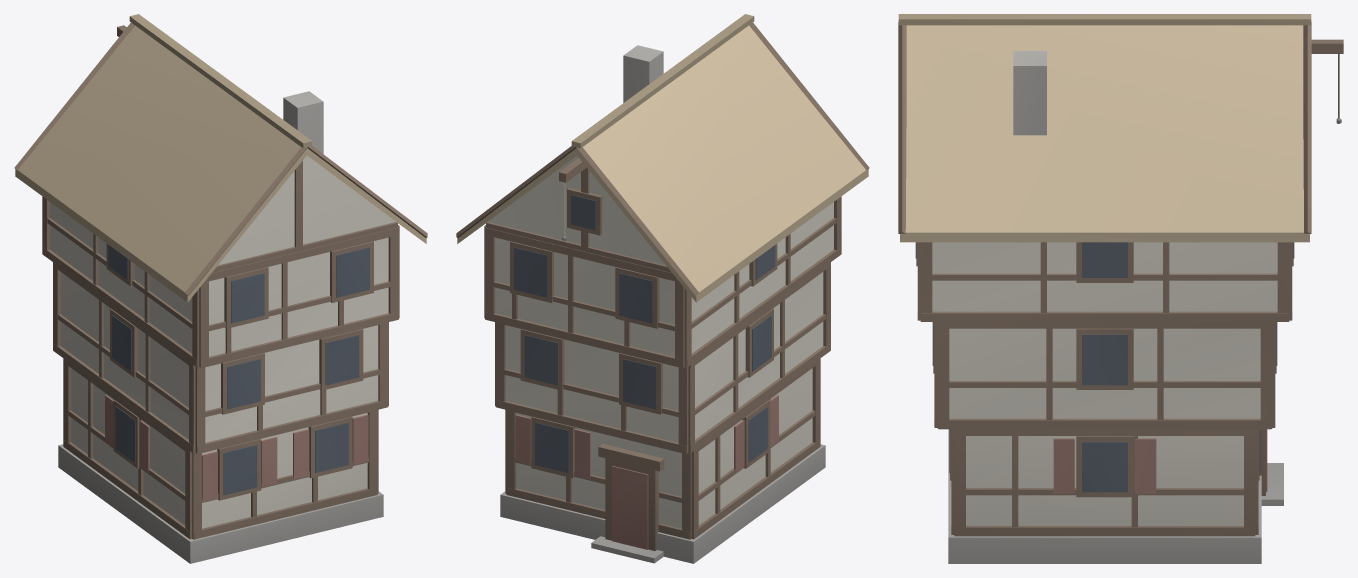
File: townhouse_amber.gltf
The picture shows the model from 3 angles, left to right: view 1: azimuth 30°, elevation 25°; view 2: azimuth 150°, elevation 25°; view 3: azimuth 270°, elevation 25°; orthographic projection. The views are drawn at different scales.
Visible parts, largest first — view 1: Body; view 2: Body; view 3: Body.
Boxes of the visible parts, x1,y1,x2,y2 form: Body: (14, 14, 427, 563); Body: (456, 14, 869, 563); Body: (898, 14, 1343, 563).
Size of the model in its own units: 6.92 by 11.24 by 9.24.
